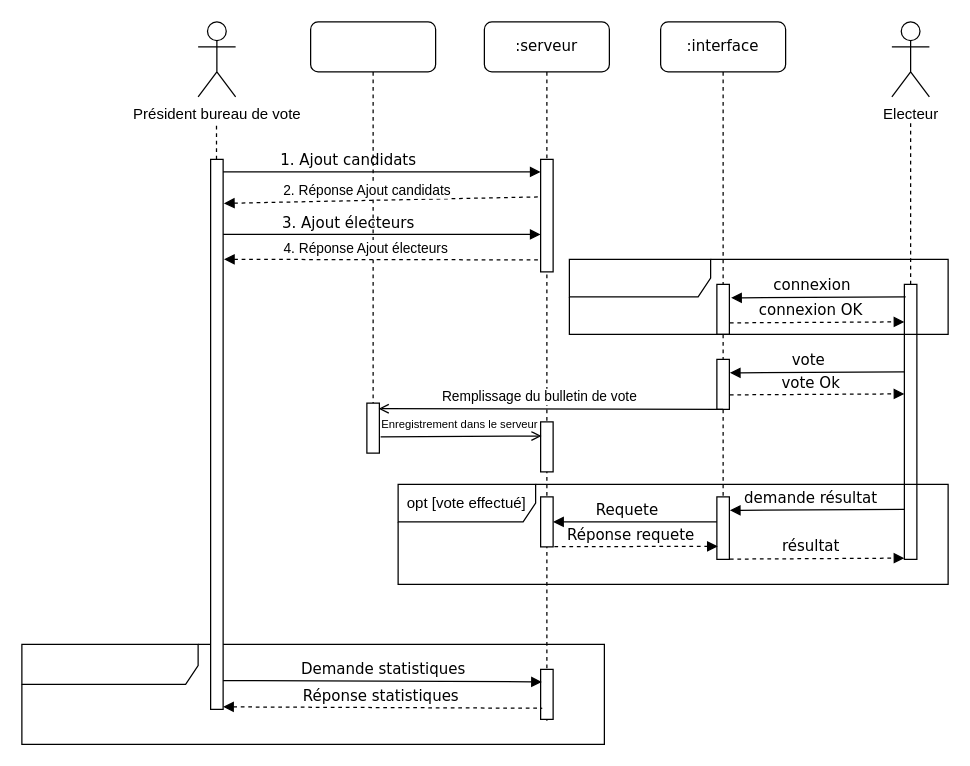
Some shapes in this 970 by 766 pixel diagram are drawn without their labels. The shapes that lost their labels are listed below. From the top down, each one's centre as x and y in pixels, then its label:
At pixel 372 234: ":bulletin_vote".
At pixel 758 296: "loop (connexion invalide)".
At pixel 312 693: "loop (élection terminée)".
